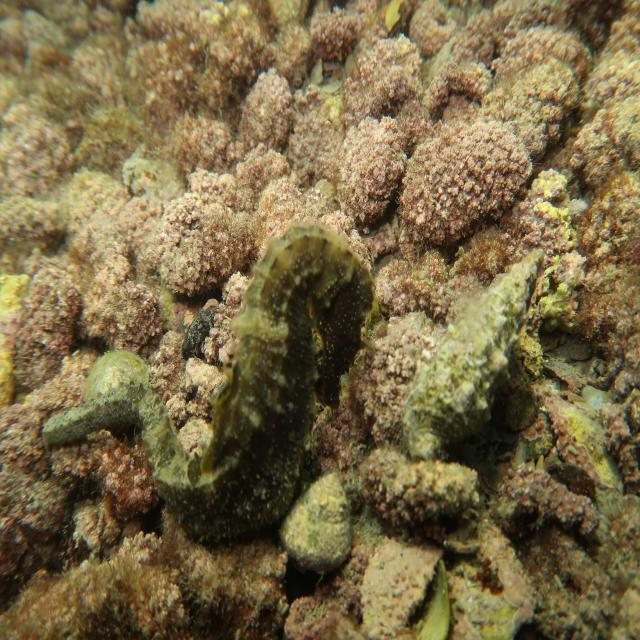Guttu: (314, 228, 382, 418)
